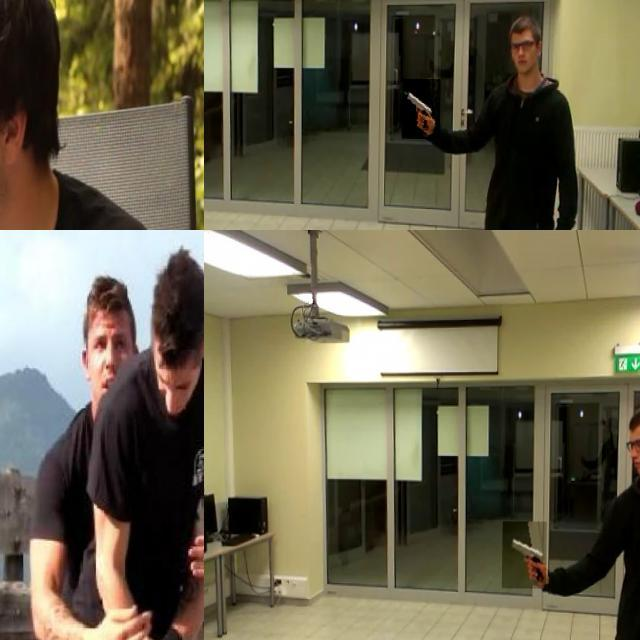gun-knife-thesis - v11 Yolov5 augmented: (504, 521, 548, 588), (402, 78, 442, 139)
